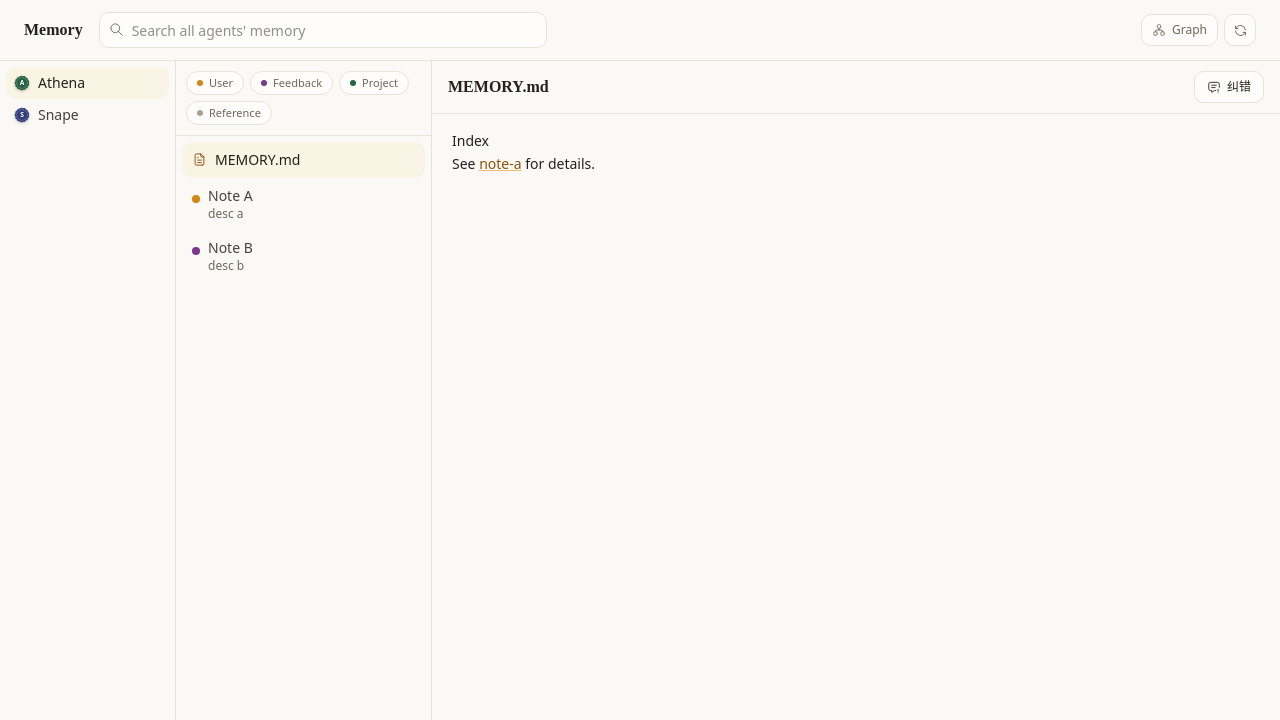
Scenario: MemoryPage › renders a resolvable wikilink from the index page as clickable and navigates on click
Expected: the heading "Index" is shown, [452,131,489,150]
Click the link "note-a": [500, 163] box [479,154,522,173]
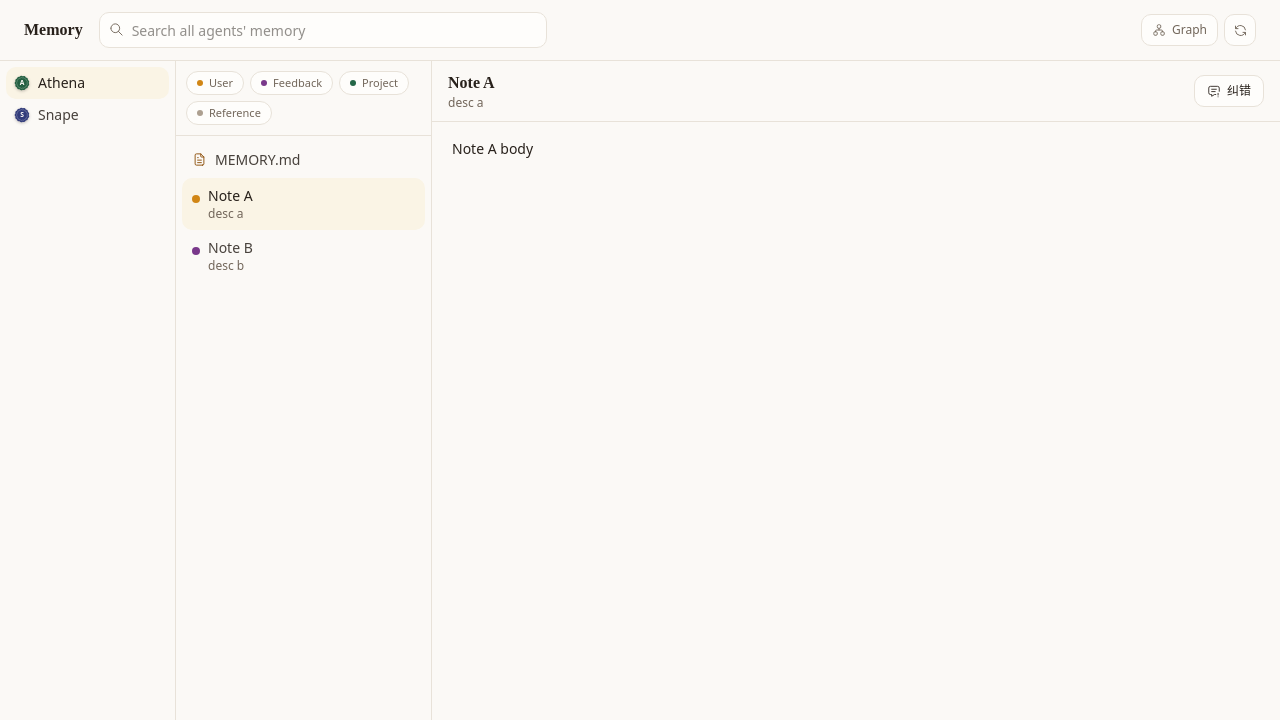
Expected: the text "Note A body" is shown, [452,139,533,158]
